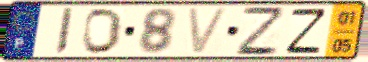8: (137, 6, 178, 56)
I: (53, 6, 76, 56)
O: (80, 7, 125, 56)
V: (185, 6, 232, 56)
Z: (235, 5, 285, 58), (284, 7, 329, 55)
